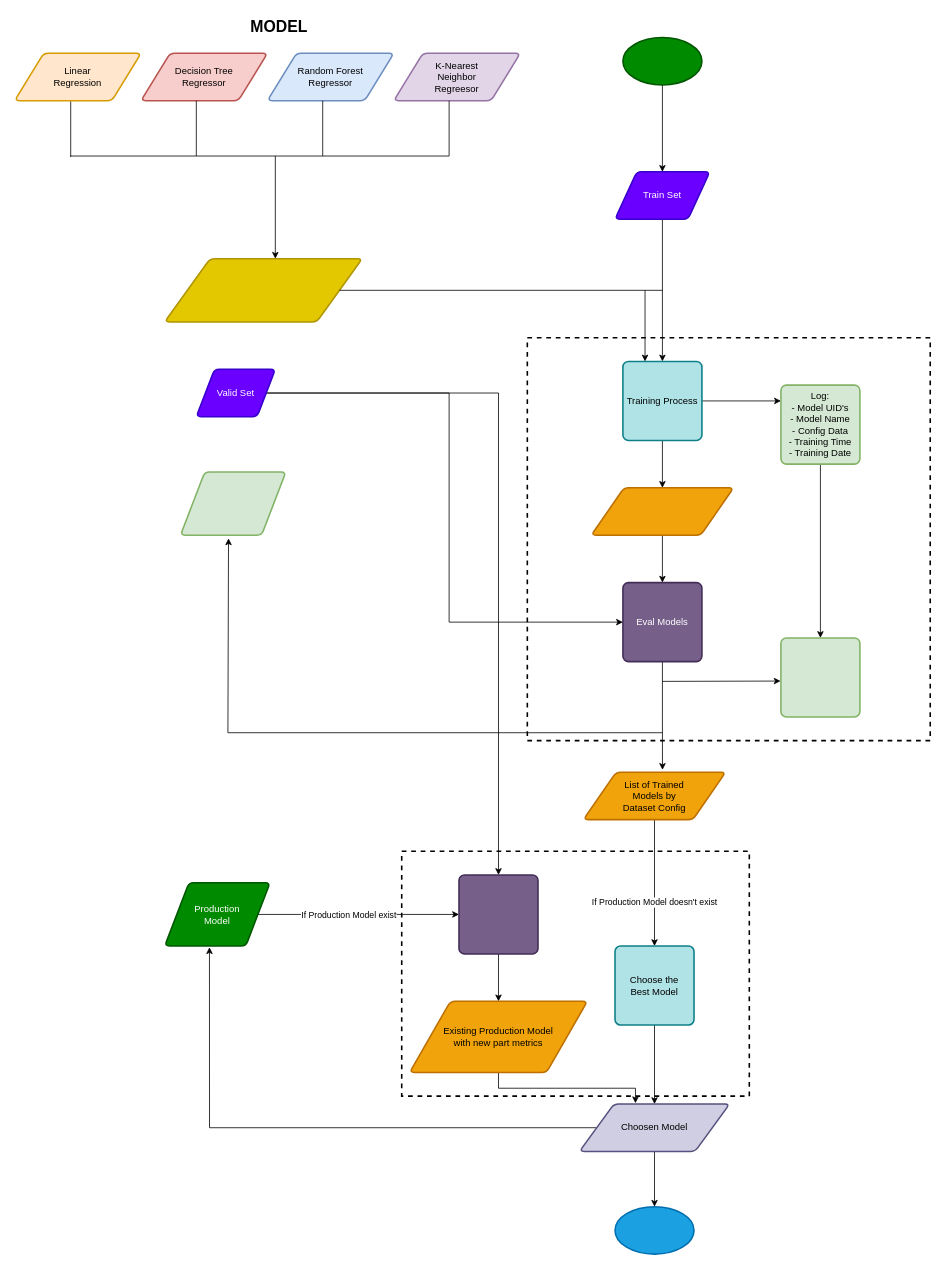
The diagram is 944 pixels wide and 1268 high, and some of its shapes have lost their labels. Each missing label, with the centre of its shape:
"End" belongs at (x=654, y=1230).
"List of Trained Models + UID's" belongs at (x=662, y=511).
"List of Untrained Models by Dataset Config (Vanilla / Hyperparams)" belongs at (x=263, y=290).
"Log: - R2 Score - MSE Score - MAE Score" belongs at (x=820, y=677).
"Re-eval Model with current Valid Set" belongs at (x=498, y=914).
"Start" belongs at (x=662, y=60).
"Training Log" belongs at (x=232, y=503).
